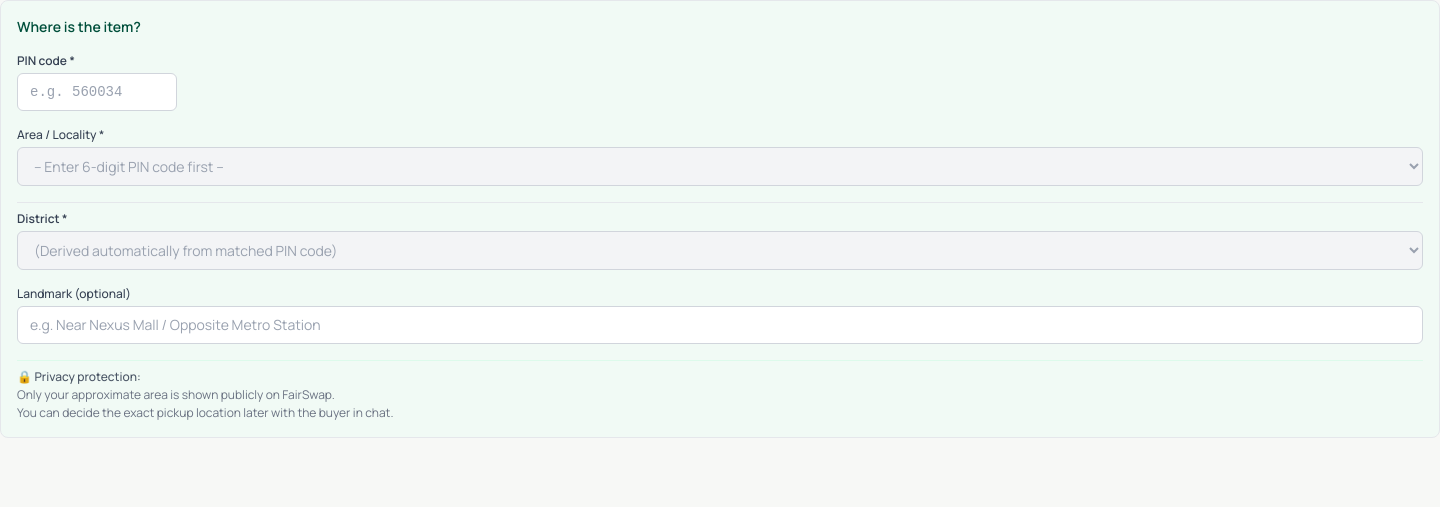
Scenario: PincodeLocationPicker component › displays user-facing message when PIN location details are unavailable (PINCODE_ADMIN_DATA_UNAVAILABLE)
This screenshot has width=1440, height=507.
In the field labelled "PIN code *": (97, 92) [17, 73, 177, 111], type "990003"
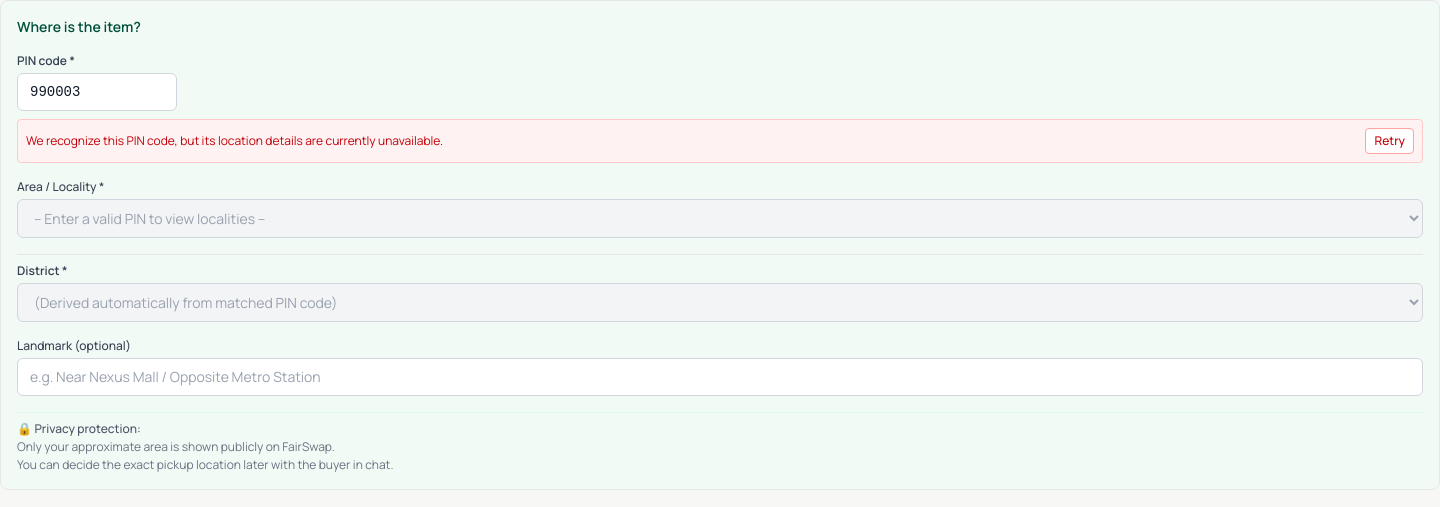
Check: the text "We recognize this PIN code, but its location details are currently unavailable." is shown, box [26, 133, 443, 149]
